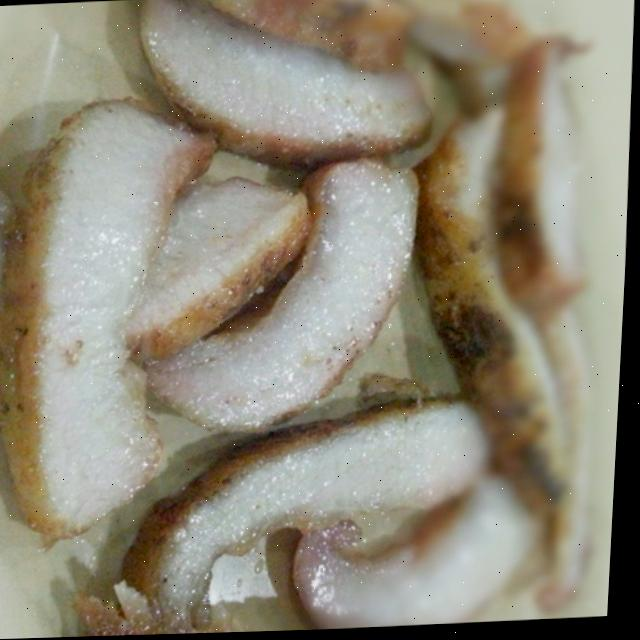猪肉菜式: (0, 0, 602, 635)
